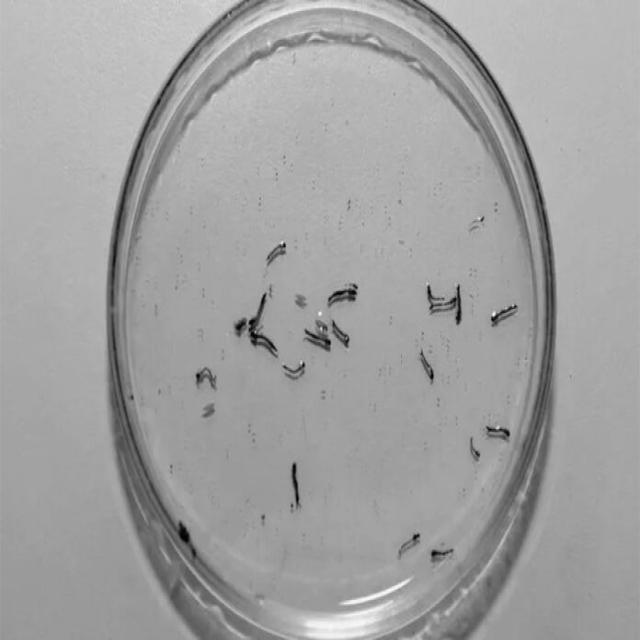larvas: (302, 327, 330, 349), (398, 531, 420, 559), (249, 294, 267, 326), (251, 332, 277, 353), (330, 319, 350, 346), (490, 304, 517, 324), (419, 350, 434, 382), (282, 360, 304, 378), (485, 425, 510, 440), (267, 242, 285, 260), (292, 463, 299, 506), (196, 369, 216, 384), (331, 290, 356, 302), (428, 284, 443, 302), (469, 436, 480, 459), (430, 301, 453, 311), (431, 549, 452, 559), (456, 284, 461, 323)
